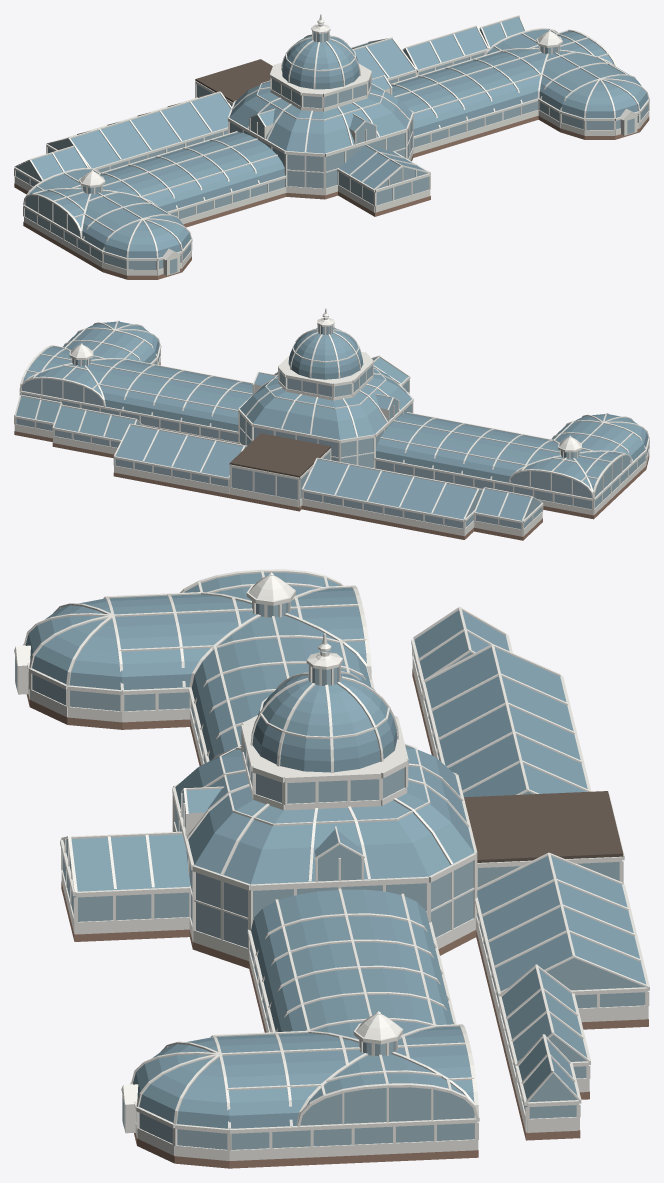
Rendered from conservatory-of-flowers-near.glb.
3 renders of one model, top to bottom at view 1: azimuth 30°, elevation 25°; view 2: azimuth 150°, elevation 25°; view 3: azimuth 270°, elevation 25°, orthographic. The views are drawn at different scales.
Visible parts, largest first — view 1: conservatory-of-flowers-0-glass, conservatory-of-flowers-0-frame, conservatory-of-flowers-0-glow, conservatory-of-flowers-0-stone, conservatory-of-flowers-0-roof; view 2: conservatory-of-flowers-0-glass, conservatory-of-flowers-0-frame, conservatory-of-flowers-0-glow, conservatory-of-flowers-0-stone, conservatory-of-flowers-0-roof; view 3: conservatory-of-flowers-0-glass, conservatory-of-flowers-0-frame, conservatory-of-flowers-0-glow, conservatory-of-flowers-0-roof, conservatory-of-flowers-0-stone.
Boxes of the visible parts, x1,y1,x2,y2 form: conservatory-of-flowers-0-glass: (29,17,648,258); conservatory-of-flowers-0-frame: (14,14,649,275); conservatory-of-flowers-0-glow: (16,29,648,273); conservatory-of-flowers-0-stone: (14,115,649,279); conservatory-of-flowers-0-roof: (195,59,272,102); conservatory-of-flowers-0-glass: (15,321,648,520); conservatory-of-flowers-0-frame: (14,308,649,536); conservatory-of-flowers-0-glow: (16,325,648,529); conservatory-of-flowers-0-stone: (14,362,649,540); conservatory-of-flowers-0-roof: (229,433,330,477); conservatory-of-flowers-0-glass: (25,572,646,1128); conservatory-of-flowers-0-frame: (14,569,649,1160); conservatory-of-flowers-0-glow: (15,601,647,1149); conservatory-of-flowers-0-roof: (464,791,623,862); conservatory-of-flowers-0-stone: (26,669,648,1168).
Size of the model in its own units: 75.31 by 18 by 38.4.
